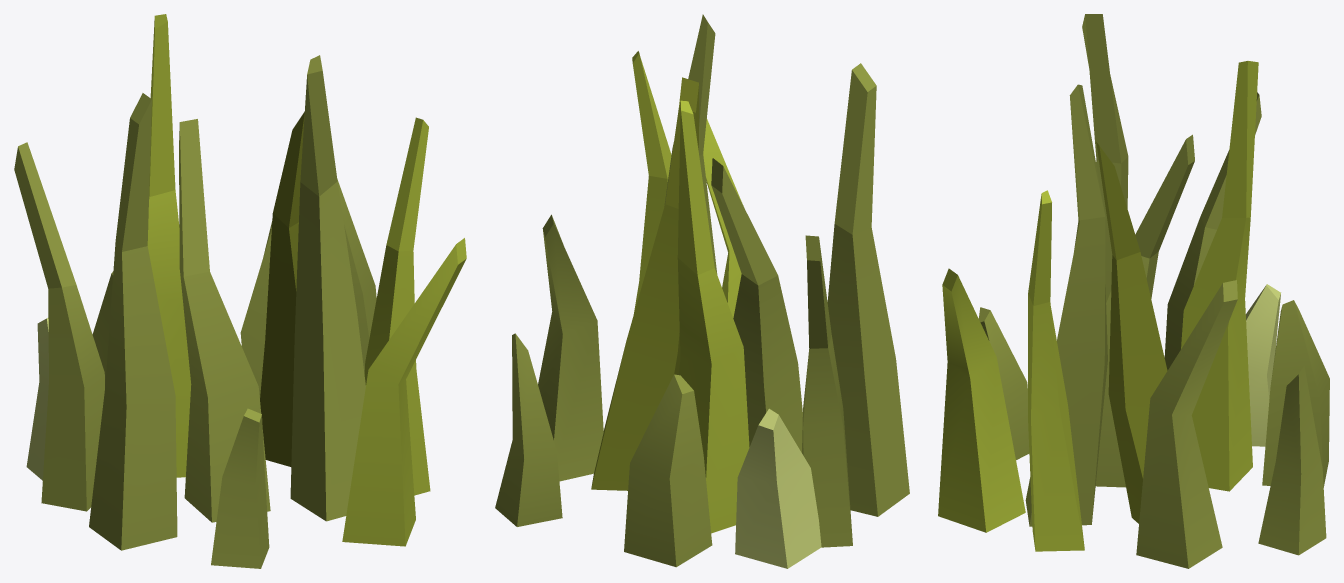
File: Grass_2.fbx
3 views of the same model, side by side, from view 1: azimuth 30°, elevation 25°; view 2: azimuth 150°, elevation 25°; view 3: azimuth 270°, elevation 25° (orthographic). The views are drawn at different scales.
Visible parts, largest first — view 1: Grass_2; view 2: Grass_2; view 3: Grass_2.
Part boxes in pixels (x1,y1,x2,y2): Grass_2: [14, 14, 466, 568]; Grass_2: [495, 14, 909, 568]; Grass_2: [938, 14, 1329, 568].
Size of the model in its own units: 0.0533 by 0.0661 by 0.0551.
